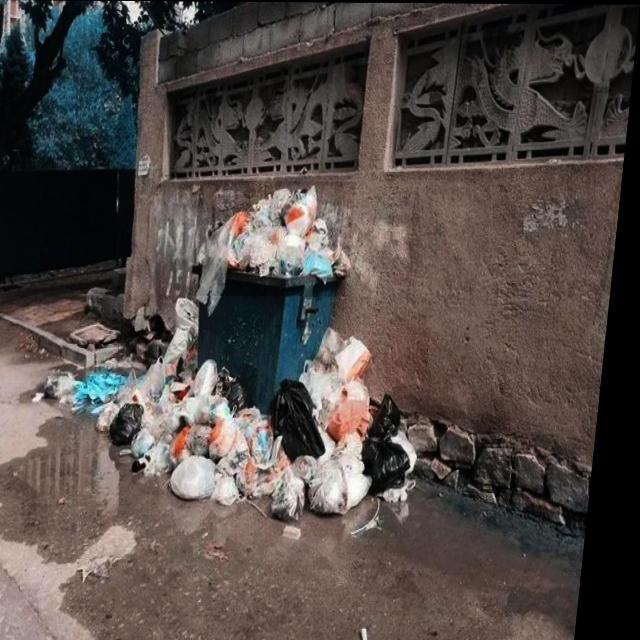garbage: (30, 295, 440, 538)
overflow: (186, 180, 361, 412)
